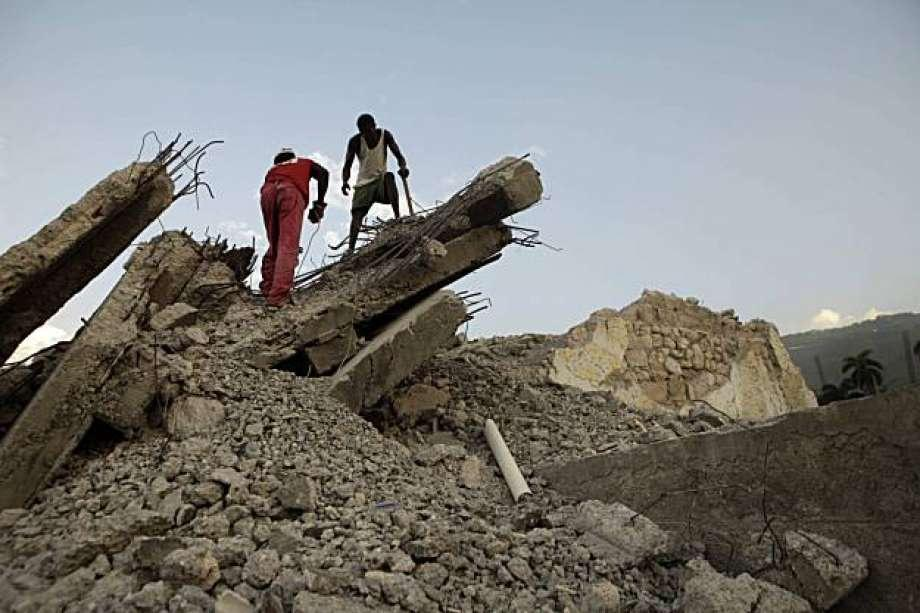victim: (255, 146, 330, 316), (338, 110, 414, 264)
